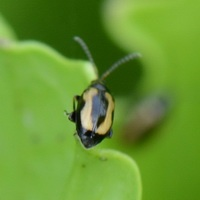insect: (66, 36, 139, 147)
